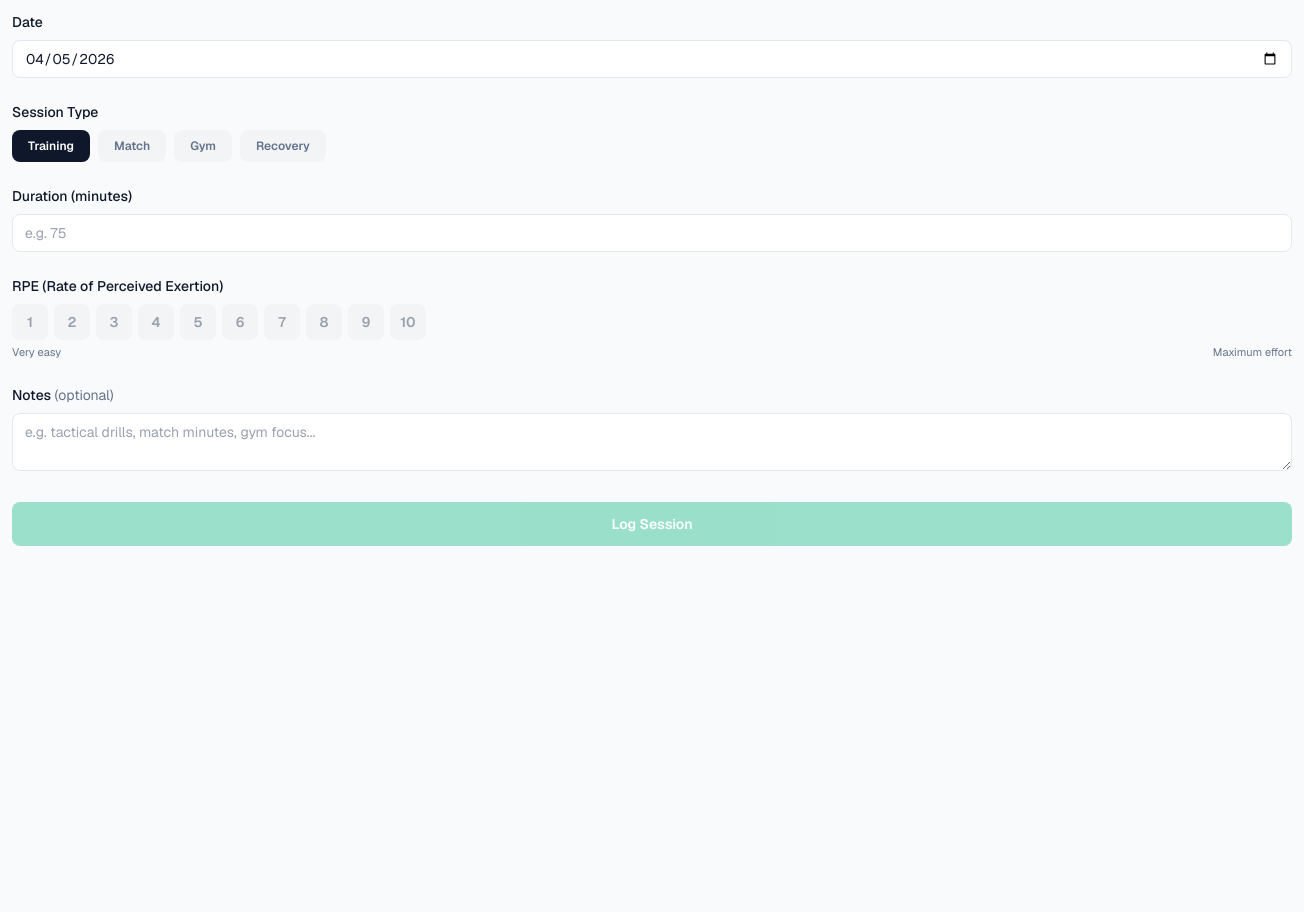
SessionForm submit flow › shows network error on fetch failure
The width and height of the screenshot is (1304, 912).
In the number field labelled "Duration (minutes)": (652, 233) x1=12 y1=214 x2=1292 y2=252, type "75"
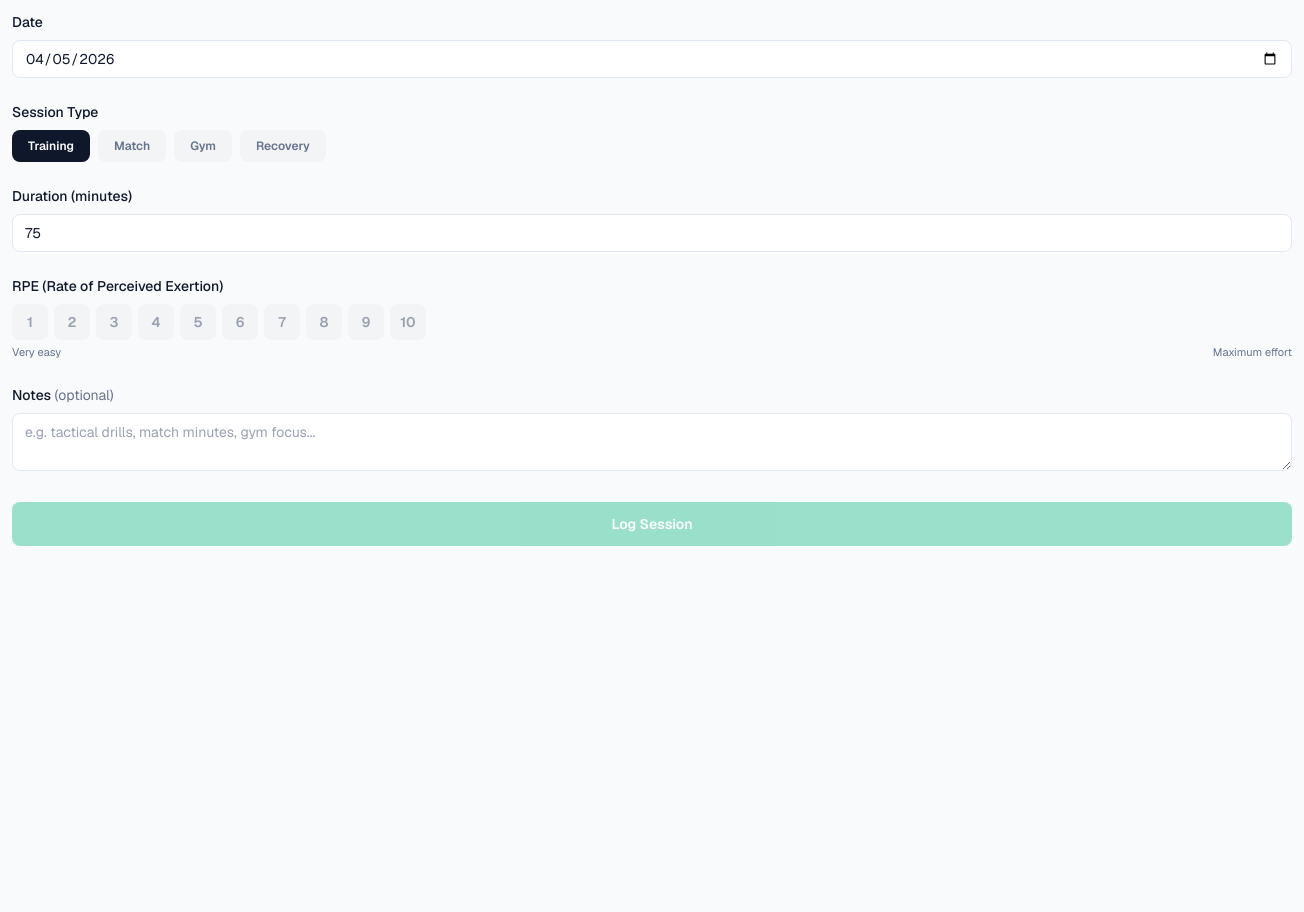
Click the button "6": (240, 322) x1=222 y1=304 x2=258 y2=340
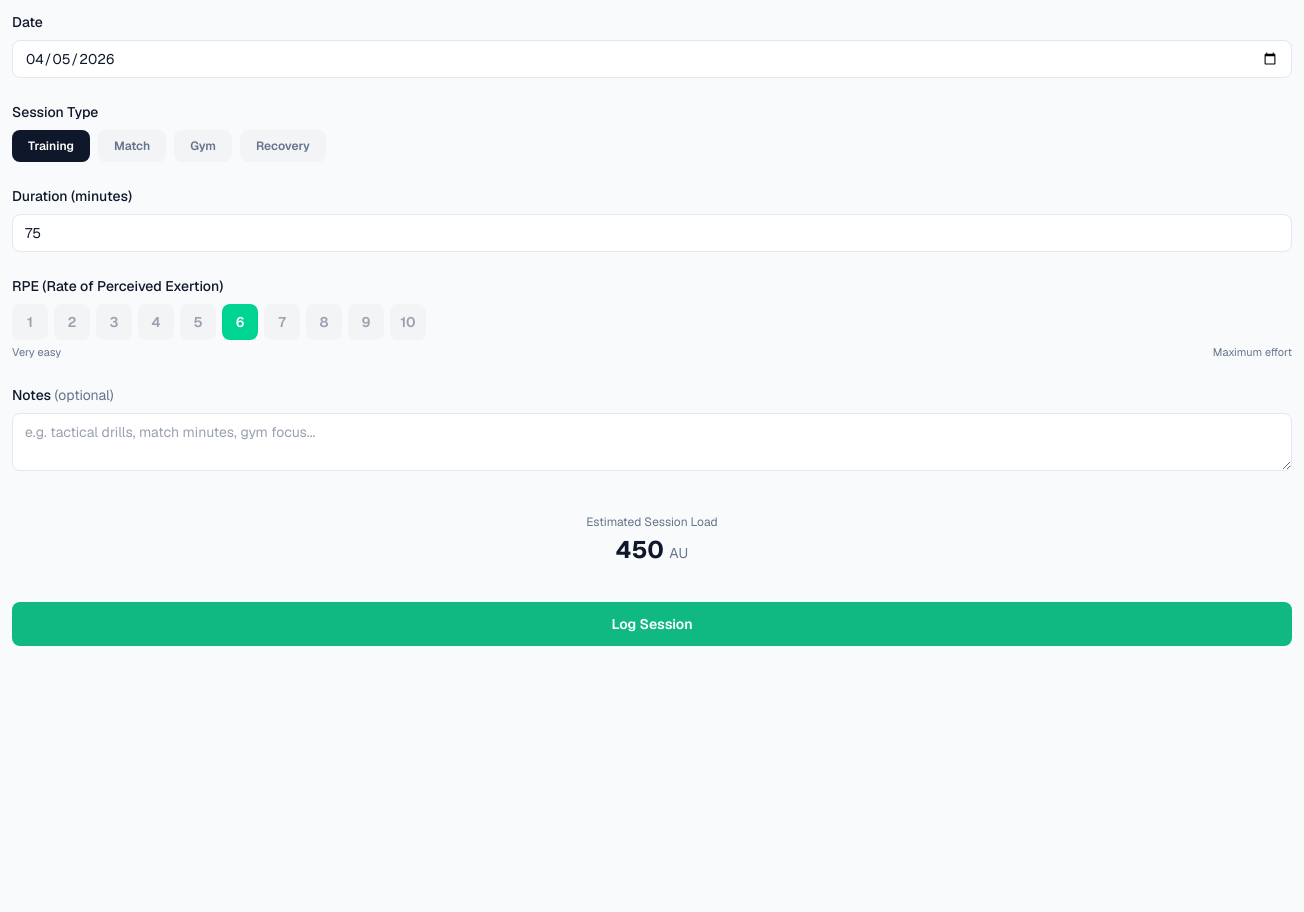
Click the button "Log Session": (652, 624) x1=12 y1=602 x2=1292 y2=646
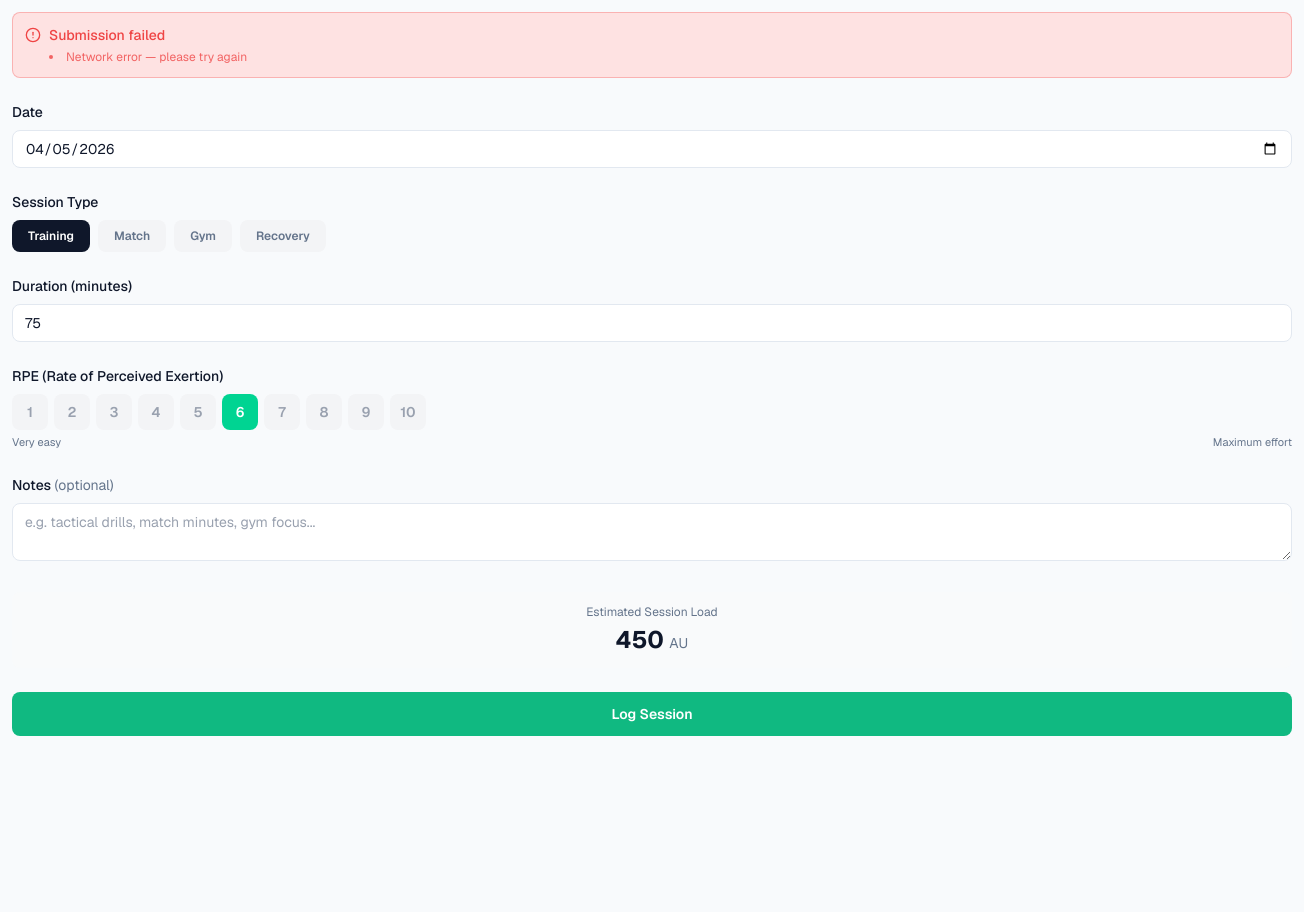
Now the list item "Network error — please try again" is shown, box x1=49 y1=49 x2=247 y2=65
